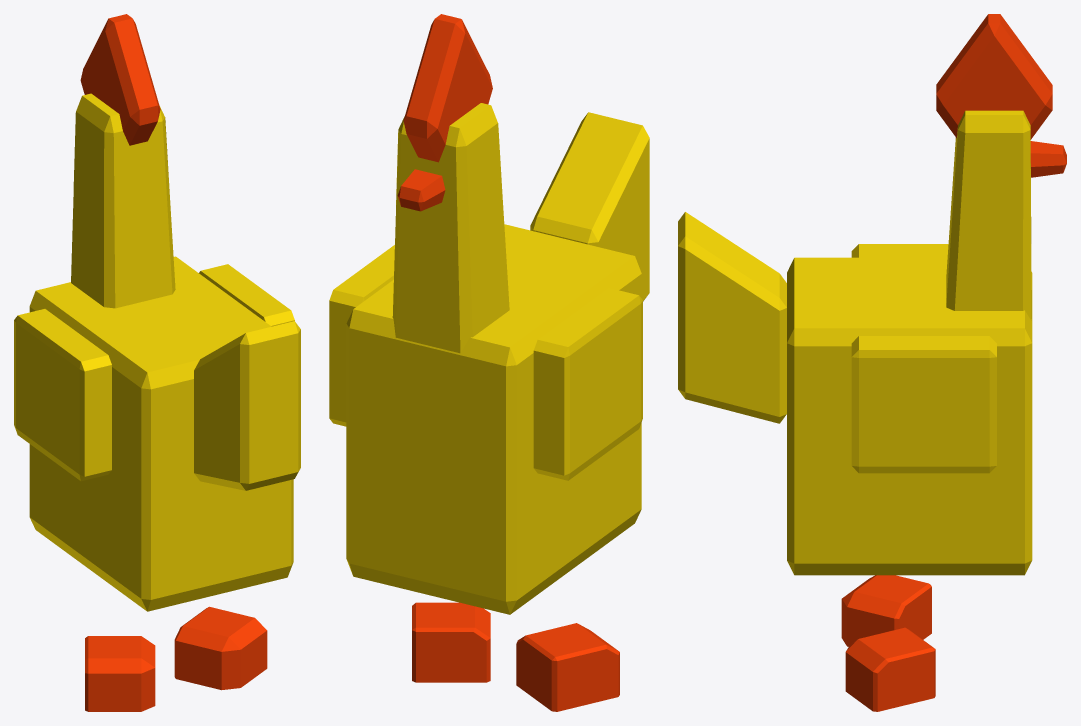
The model's file is RubberChicken.obj.
The picture shows the model from 3 angles, left to right: view 1: azimuth 30°, elevation 25°; view 2: azimuth 150°, elevation 25°; view 3: azimuth 270°, elevation 25°; orthographic projection. The views are drawn at different scales.
Parts seen in each view (by area): view 1: Body, Head, Cube.005, Cube.006, Cube.007, Cube.000; view 2: Body, Head, Cube.005, Cube.007, Cube.006, Cube.000, Beak; view 3: Body, Head, Cube.000, Cube.006, Cube.007, Cube.005, Beak.
Boxes of the visible parts, bbox=[...] form: Body: bbox=[29, 256, 300, 611]; Head: bbox=[71, 14, 175, 308]; Cube.005: bbox=[14, 309, 111, 481]; Cube.006: bbox=[174, 606, 267, 690]; Cube.007: bbox=[85, 636, 155, 711]; Cube.000: bbox=[199, 264, 294, 326]; Body: bbox=[346, 112, 649, 614]; Head: bbox=[392, 14, 509, 353]; Cube.005: bbox=[533, 288, 642, 480]; Cube.007: bbox=[516, 623, 619, 711]; Cube.006: bbox=[412, 602, 490, 682]; Cube.000: bbox=[329, 245, 394, 426]; Beak: bbox=[397, 169, 445, 211]; Body: bbox=[678, 212, 1032, 575]; Head: bbox=[936, 14, 1052, 320]; Cube.000: bbox=[851, 336, 996, 473]; Cube.006: bbox=[845, 627, 935, 711]; Cube.007: bbox=[841, 575, 931, 646]; Cube.005: bbox=[851, 244, 948, 257]; Beak: bbox=[1030, 141, 1066, 177].
Size of the model in its own units: 0.7 by 1.97 by 1.07.
